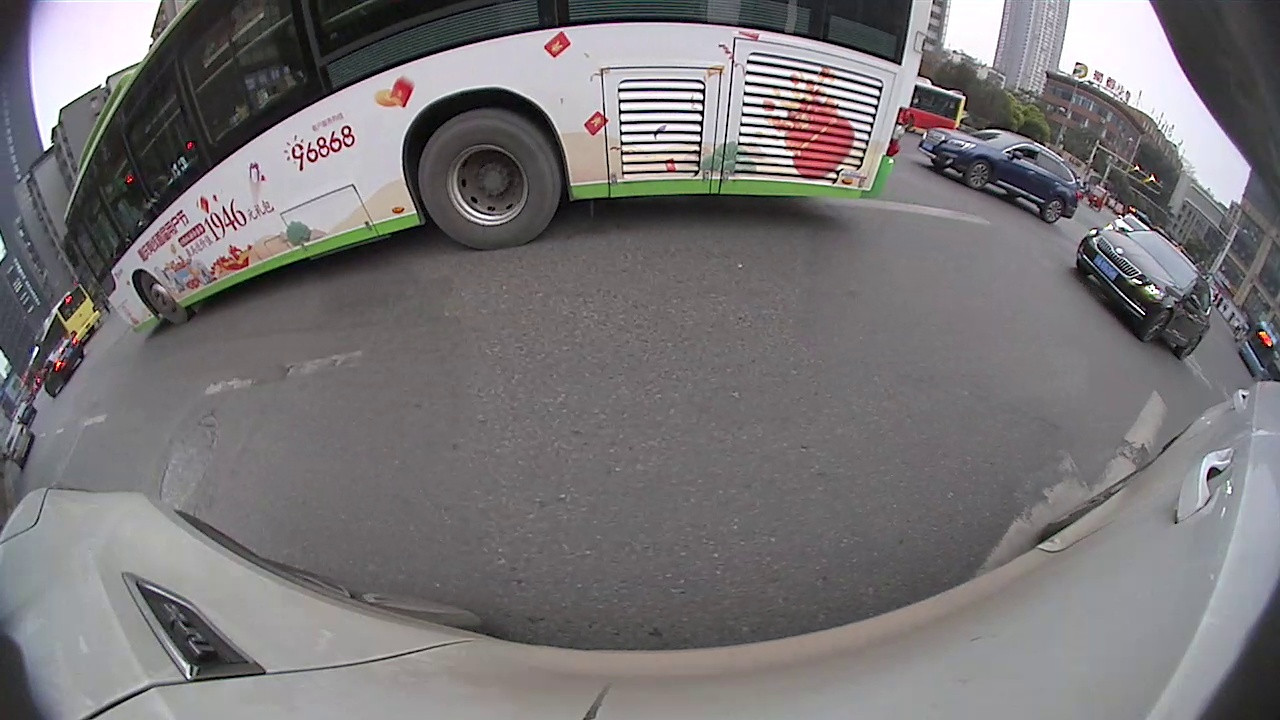bus: (59, 1, 934, 340), (23, 285, 104, 394), (900, 81, 971, 137)
car: (1077, 223, 1215, 359), (914, 125, 1082, 225), (41, 327, 87, 402)
front: (137, 266, 192, 329), (1136, 308, 1174, 351), (961, 157, 997, 192)
rear: (413, 103, 567, 253), (1038, 194, 1067, 224)
